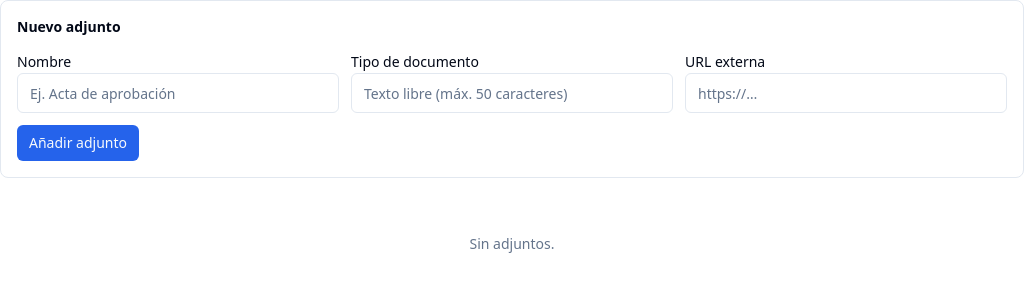
AttachmentsManager — create › surfaces a field error for a malformed external_url and does not POST
The image size is (1024, 294).
Expected: the text "Sin adjuntos." is shown, x1=470 y1=234 x2=554 y2=253
Type "Acta" into the field labelled "Nombre" at coordinates (178, 93), box x1=17 y1=73 x2=339 y2=113
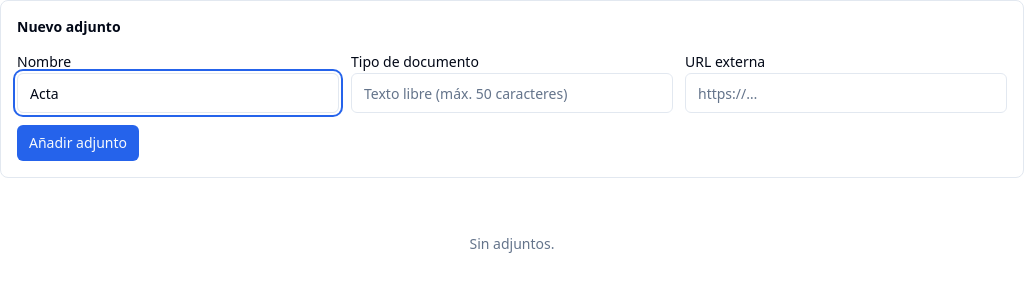
Type "Acta" into the field labelled "Tipo de documento" at coordinates (512, 93), box x1=351 y1=73 x2=673 y2=113
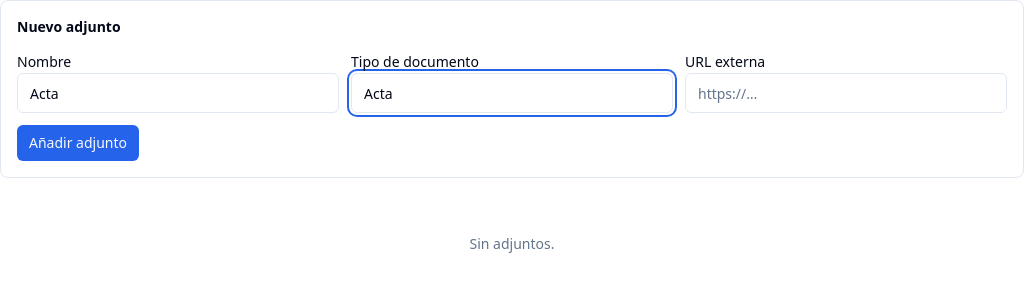
Type "not-a-url" into the field labelled "URL externa" at coordinates (846, 93), box x1=685 y1=73 x2=1007 y2=113
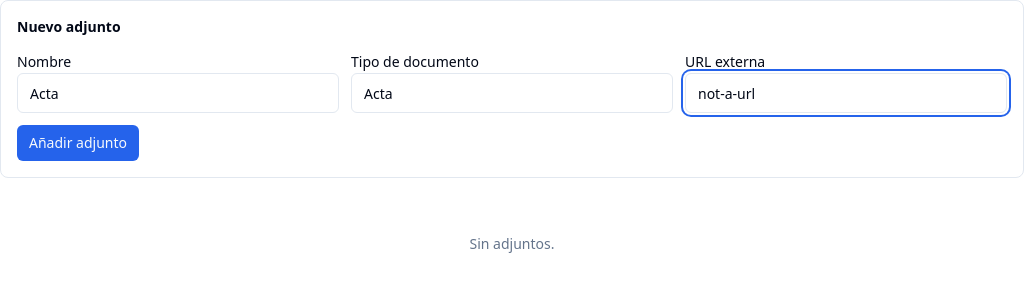
Click the button "Añadir adjunto" at coordinates (78, 143), box x1=17 y1=125 x2=139 y2=161
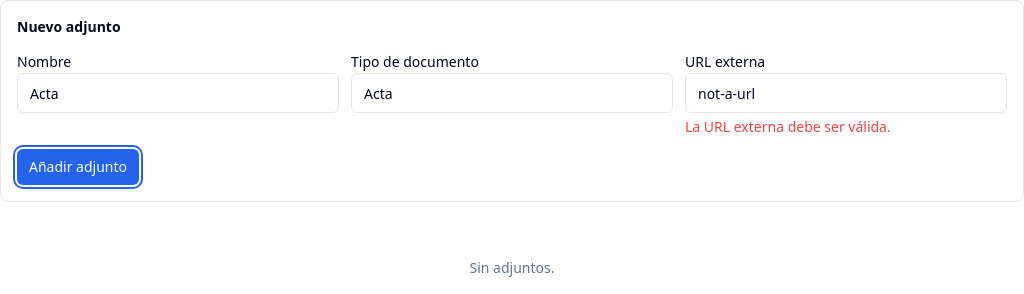
Now the text "La URL externa debe ser válida." is shown, box x1=685 y1=117 x2=891 y2=136
